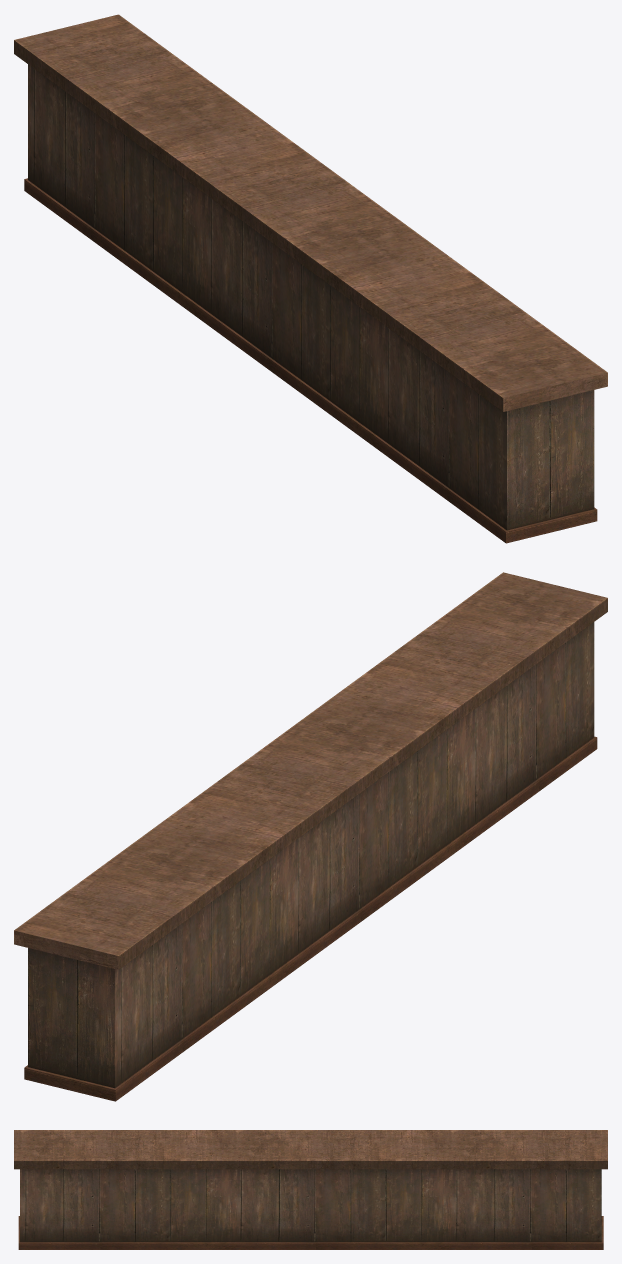
Rendered from Prop_JbBt01.glb.
3 renders of one model, top to bottom at view 1: azimuth 30°, elevation 25°; view 2: azimuth 150°, elevation 25°; view 3: azimuth 270°, elevation 25°, orthographic. The views are drawn at different scales.
Parts seen in each view (by area): view 1: xiutz_jb_bt_01; view 2: xiutz_jb_bt_01; view 3: xiutz_jb_bt_01.
Boxes of the visible parts, bbox=[...] form: xiutz_jb_bt_01: bbox=[14, 14, 607, 543]; xiutz_jb_bt_01: bbox=[14, 572, 607, 1101]; xiutz_jb_bt_01: bbox=[14, 1130, 607, 1249].
Size of the model in its own units: 1.22 by 1.67 by 9.86.
Materials: 1 (1 with a texture image).
